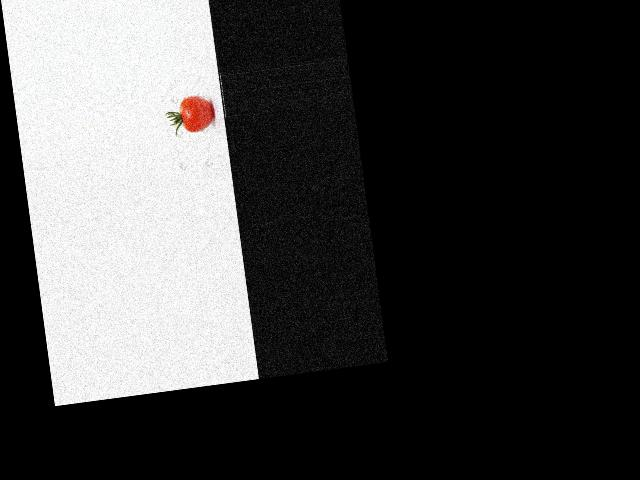tomato: (178, 94, 215, 134)
